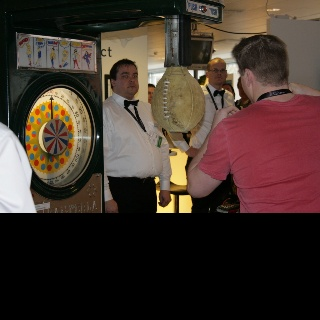without_mask: (114, 64, 139, 94), (208, 60, 226, 83)
